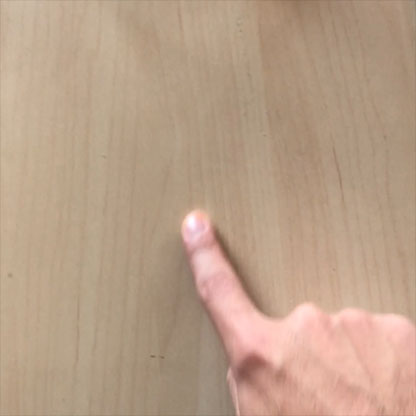fingertip: (176, 204, 222, 251)
